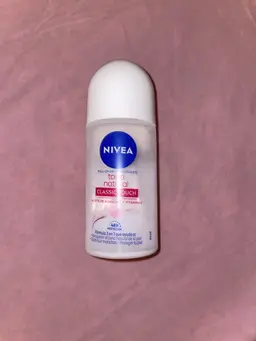toxic_waste: (89, 70, 159, 254)
